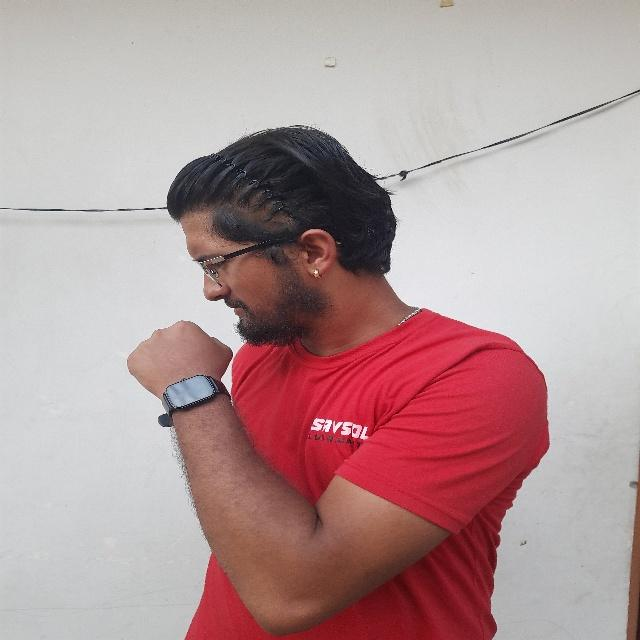Fist Mouth: (118, 133, 380, 428)
